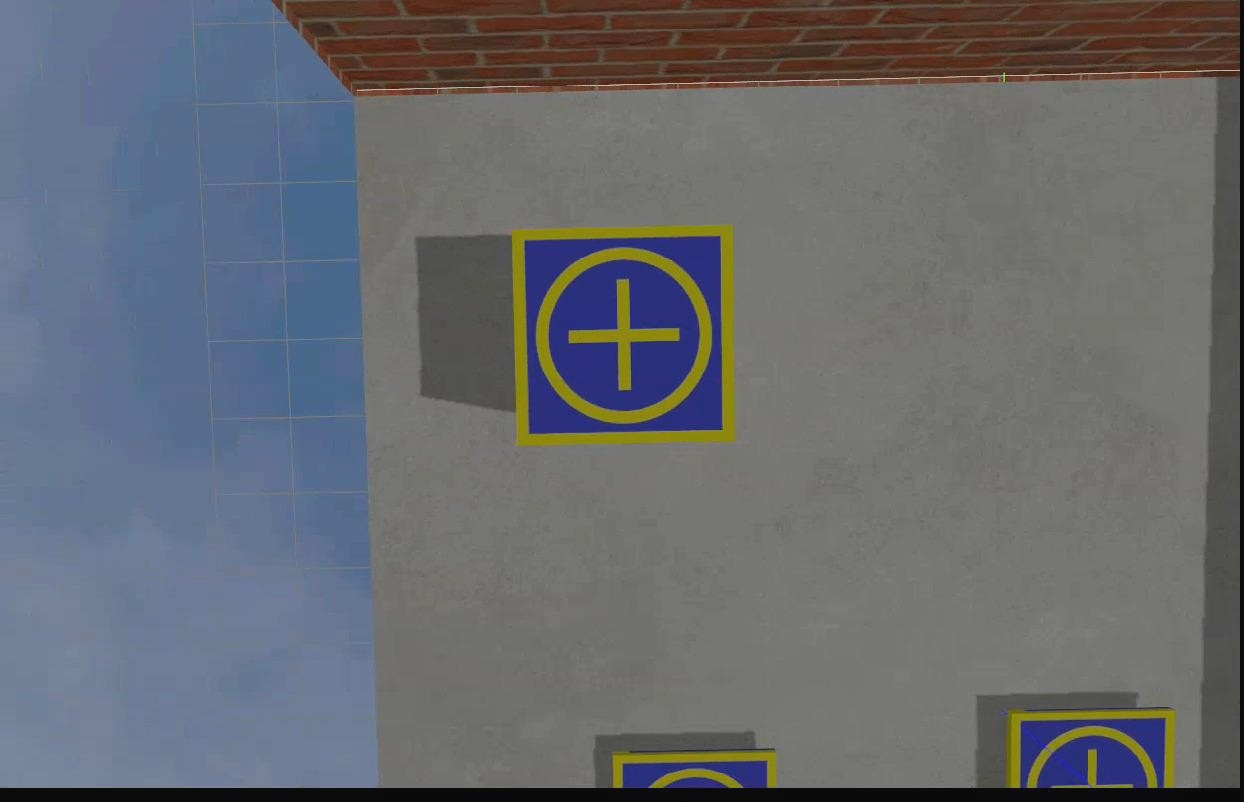small_base: (513, 229, 736, 450), (1005, 707, 1175, 791), (611, 748, 779, 792)
